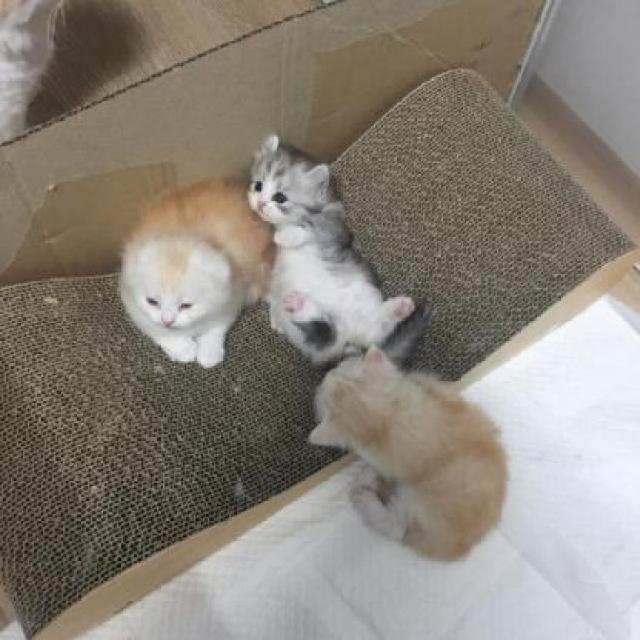cat: (302, 348, 527, 560), (250, 126, 438, 354), (108, 161, 268, 364)
